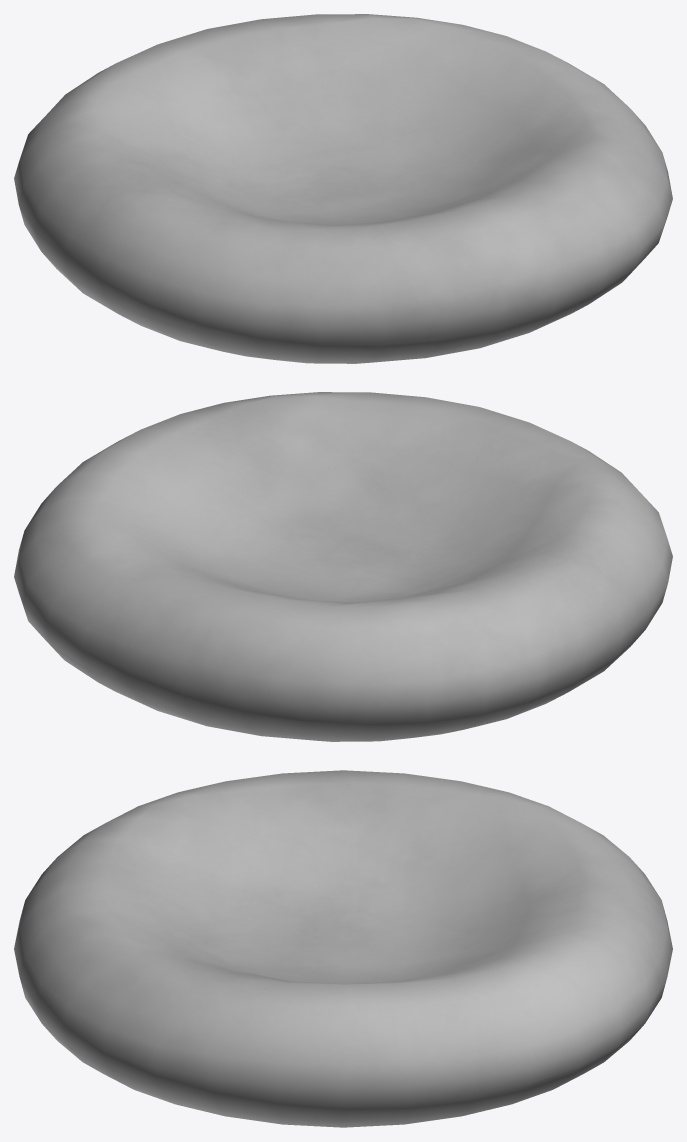
Rendered from Flour.fbx.
3 views of the same model, one above another, from view 1: azimuth 30°, elevation 25°; view 2: azimuth 150°, elevation 25°; view 3: azimuth 270°, elevation 25° (orthographic). The views are drawn at different scales.
Visible parts, largest first — view 1: FullDough; view 2: FullDough; view 3: FullDough.
Boxes of the visible parts, <box> form: FullDough: <box>14,14,672,363</box>; FullDough: <box>14,392,672,741</box>; FullDough: <box>14,770,672,1127</box>.
Size of the model in its own units: 18.92 by 5.43 by 18.92.
Materials: 1 (1 with a texture image).
